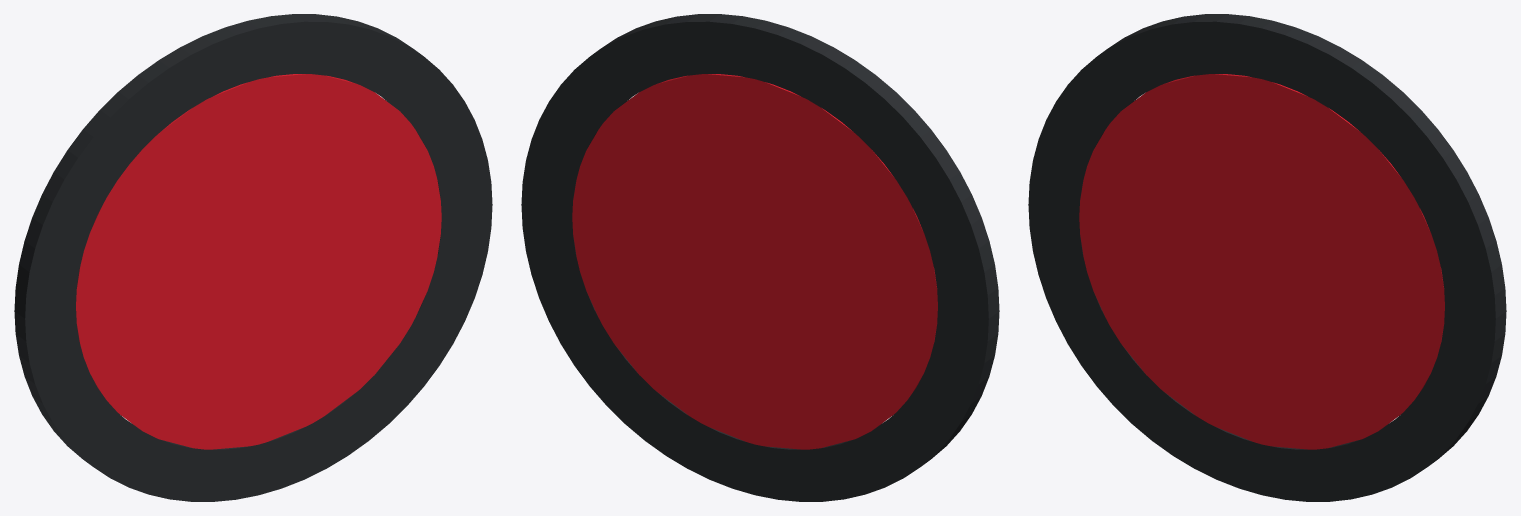
The model's file is tinker.obj.
3 views of the same model, side by side, from view 1: azimuth 30°, elevation 25°; view 2: azimuth 150°, elevation 25°; view 3: azimuth 330°, elevation 25° (orthographic).
Visible parts, largest first — view 1: group_0_15277357, group_0_2829873; view 2: group_0_15277357, group_0_2829873; view 3: group_0_15277357, group_0_2829873.
Boxes of the visible parts, x1,y1,x2,y2 form: group_0_15277357: (76, 74, 441, 449); group_0_2829873: (14, 14, 492, 501); group_0_15277357: (572, 74, 937, 449); group_0_2829873: (521, 14, 999, 501); group_0_15277357: (1079, 74, 1444, 449); group_0_2829873: (1028, 14, 1506, 501).
Size of the model in its own units: 25.3 by 24.15 by 1.
